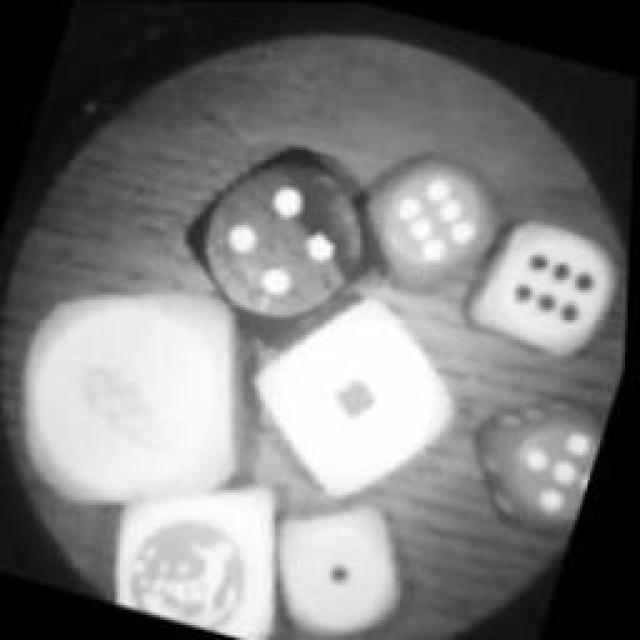dice_1: (243, 477, 451, 640)
dice_4: (155, 112, 415, 370)
dice_5: (454, 371, 616, 549)
dice_6: (330, 122, 530, 320), (455, 205, 633, 377)
